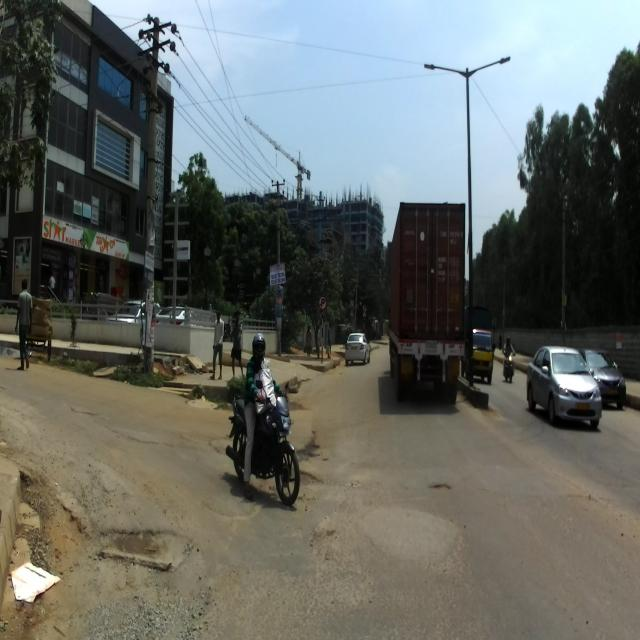Car_Maruti-Suzuki: (345, 331, 370, 365)
Car_TATA: (580, 348, 626, 413)
Car_Toyota: (526, 345, 602, 428)
motorcycle_Honda: (225, 378, 300, 506)
truck: (386, 201, 465, 403), (460, 304, 495, 384)
